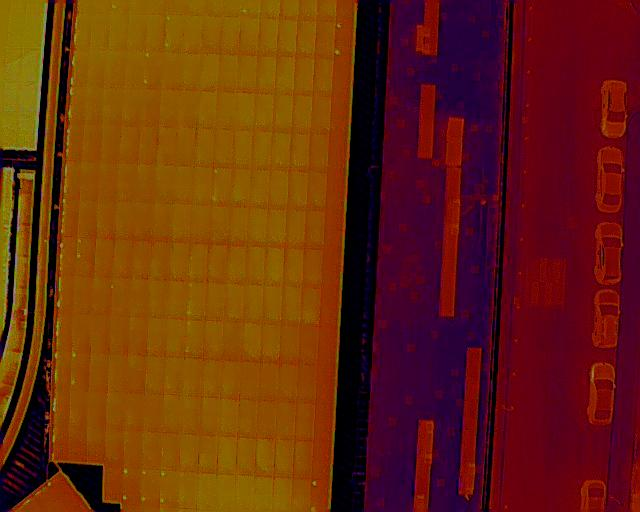Cell: (312, 480, 330, 511)
Cell-Multi: (71, 352, 90, 393), (142, 53, 164, 88), (139, 468, 160, 504), (333, 23, 352, 62), (165, 15, 184, 53), (76, 238, 95, 276), (66, 125, 84, 163), (122, 467, 141, 502), (60, 238, 77, 276), (62, 201, 79, 238), (161, 470, 179, 504)
No-Anomaly: (181, 396, 204, 434), (283, 248, 304, 288), (245, 245, 266, 285), (305, 209, 326, 249), (88, 352, 109, 392), (219, 361, 241, 399), (182, 358, 204, 396), (292, 441, 314, 479), (254, 438, 276, 476), (185, 282, 206, 321), (223, 284, 244, 323), (201, 15, 222, 54), (212, 168, 233, 207), (170, 204, 191, 243), (235, 438, 257, 475), (242, 322, 262, 362), (261, 323, 281, 363), (239, 16, 259, 56), (303, 249, 323, 289), (264, 246, 284, 286), (132, 240, 152, 280), (189, 243, 209, 283), (233, 130, 253, 170), (112, 240, 133, 278), (292, 95, 313, 133), (296, 20, 317, 58), (121, 88, 142, 126), (143, 394, 164, 432), (199, 397, 220, 435), (276, 402, 297, 440), (274, 440, 295, 478), (311, 442, 332, 480), (319, 288, 339, 327), (129, 278, 149, 317), (166, 281, 186, 320), (110, 315, 130, 354), (223, 322, 243, 361), (286, 209, 306, 248), (323, 210, 343, 249), (94, 239, 114, 278), (207, 244, 227, 283), (169, 242, 189, 281), (140, 87, 160, 126), (309, 133, 329, 172), (253, 131, 273, 170), (80, 162, 100, 201), (164, 357, 184, 396), (297, 364, 317, 403), (282, 287, 303, 324), (262, 286, 283, 323), (300, 288, 321, 325), (242, 285, 263, 322), (236, 56, 257, 93), (198, 54, 219, 91), (277, 363, 298, 400), (216, 437, 237, 474), (205, 283, 225, 321), (275, 56, 295, 94), (90, 314, 110, 352), (165, 320, 185, 358), (203, 321, 223, 359), (256, 55, 276, 93), (299, 326, 319, 364), (248, 208, 268, 246), (103, 86, 122, 126), (217, 91, 237, 129), (328, 134, 348, 172), (177, 128, 197, 166), (239, 362, 259, 400), (173, 166, 193, 204), (78, 200, 98, 238), (134, 202, 154, 240), (126, 355, 146, 393), (201, 360, 221, 398), (145, 356, 165, 394), (197, 91, 217, 129), (125, 393, 145, 431), (238, 400, 258, 438), (257, 400, 277, 438), (198, 435, 218, 473), (293, 59, 314, 95), (294, 404, 315, 440), (147, 318, 166, 357), (280, 325, 299, 364), (74, 276, 93, 315), (230, 207, 249, 246), (158, 126, 177, 165), (121, 125, 140, 164), (215, 129, 234, 168), (250, 170, 269, 209), (269, 170, 288, 209), (100, 162, 119, 201), (258, 19, 278, 56), (179, 53, 199, 90), (210, 207, 230, 244), (178, 90, 198, 127), (255, 94, 275, 131), (311, 97, 331, 134), (135, 165, 155, 202), (192, 167, 212, 204), (288, 171, 308, 208), (315, 22, 335, 59), (259, 363, 279, 400), (106, 393, 126, 430), (87, 51, 107, 88), (218, 400, 239, 435), (149, 280, 168, 318), (92, 277, 111, 315), (185, 320, 204, 358), (128, 317, 147, 355), (109, 13, 128, 51), (111, 277, 130, 315), (227, 246, 246, 284), (274, 95, 293, 133), (236, 92, 255, 130), (140, 127, 159, 165), (196, 129, 215, 167), (290, 133, 309, 171), (272, 132, 291, 170), (155, 165, 174, 203), (117, 164, 136, 202), (307, 171, 326, 209), (97, 202, 116, 240), (191, 205, 210, 243), (116, 202, 135, 240), (108, 354, 127, 392), (162, 52, 181, 90), (313, 60, 333, 96), (221, 14, 239, 54), (151, 241, 169, 281), (83, 126, 103, 162), (317, 364, 335, 404), (163, 396, 183, 432), (146, 14, 165, 51), (128, 13, 147, 50), (318, 327, 337, 364), (219, 55, 238, 92), (72, 314, 91, 351), (102, 126, 121, 163), (278, 20, 297, 57), (313, 404, 332, 441), (124, 430, 143, 467), (161, 433, 180, 470), (180, 434, 199, 471), (104, 464, 123, 501), (322, 249, 340, 288), (87, 393, 107, 428), (104, 429, 124, 464), (124, 51, 144, 86), (91, 12, 109, 50), (331, 61, 350, 97), (269, 209, 287, 247), (327, 172, 345, 210), (85, 88, 103, 126), (330, 97, 349, 133), (142, 432, 161, 468), (184, 16, 202, 53), (161, 89, 179, 126), (232, 170, 250, 207), (154, 204, 172, 241), (86, 427, 105, 462), (106, 52, 125, 87), (69, 426, 87, 461), (56, 314, 73, 351), (179, 472, 198, 505), (69, 393, 87, 427), (273, 478, 293, 508), (217, 474, 236, 505), (255, 476, 274, 507), (236, 475, 255, 506), (198, 474, 217, 504), (292, 479, 311, 509)
Unclassified: (54, 351, 71, 393), (71, 51, 90, 88), (57, 276, 75, 315), (69, 88, 87, 126), (74, 13, 91, 51), (52, 426, 69, 462), (65, 162, 81, 200), (53, 392, 71, 425)
